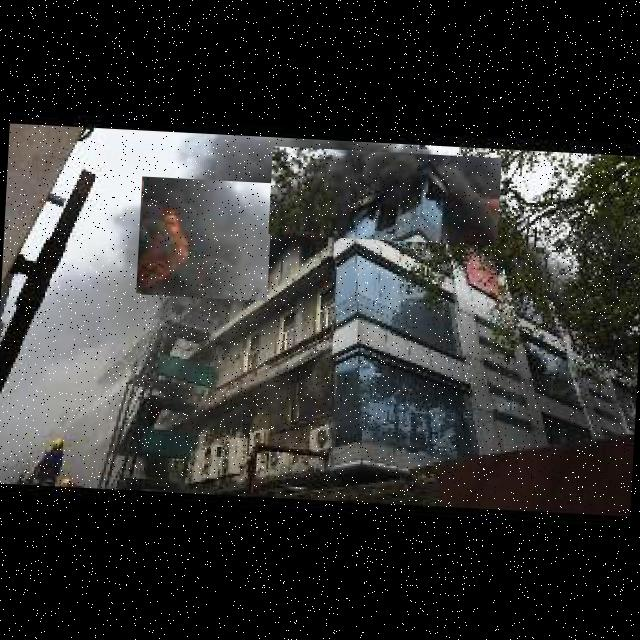fire: (268, 146, 502, 246), (136, 176, 273, 302)
